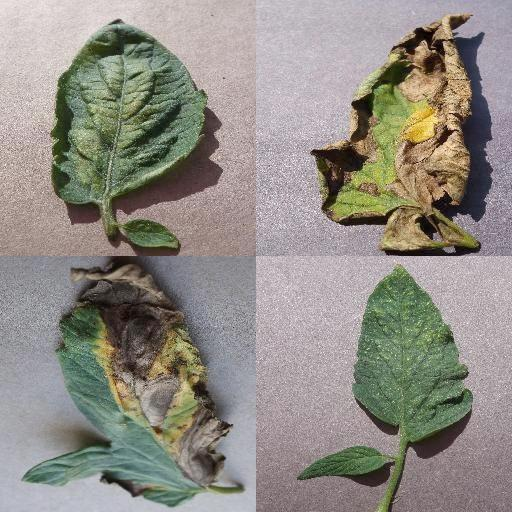Early Blight: (22, 258, 248, 510)
Late Blight: (309, 11, 473, 251)
Spider Mites: (49, 18, 206, 208), (352, 262, 474, 444)
